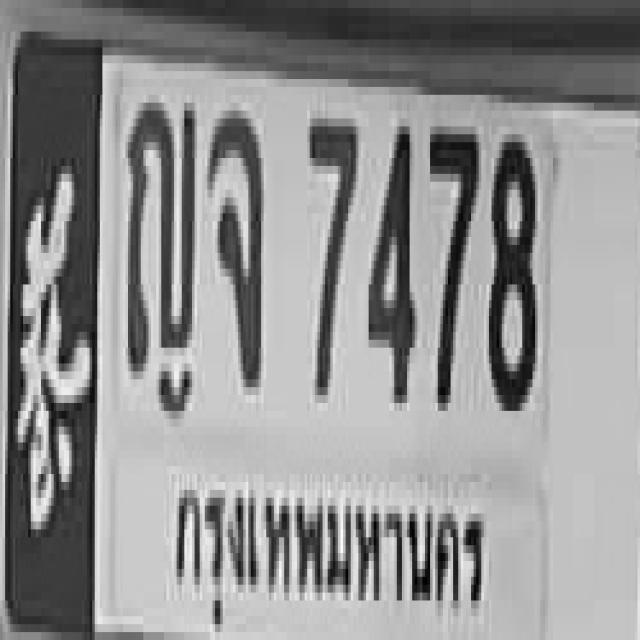17ChorChan: (205, 103, 261, 379)
22YorYing: (126, 95, 194, 371)
4: (366, 119, 412, 395)
7: (428, 118, 476, 403), (307, 111, 356, 387)
8: (485, 134, 534, 403)
Bangkok: (170, 472, 495, 640)
